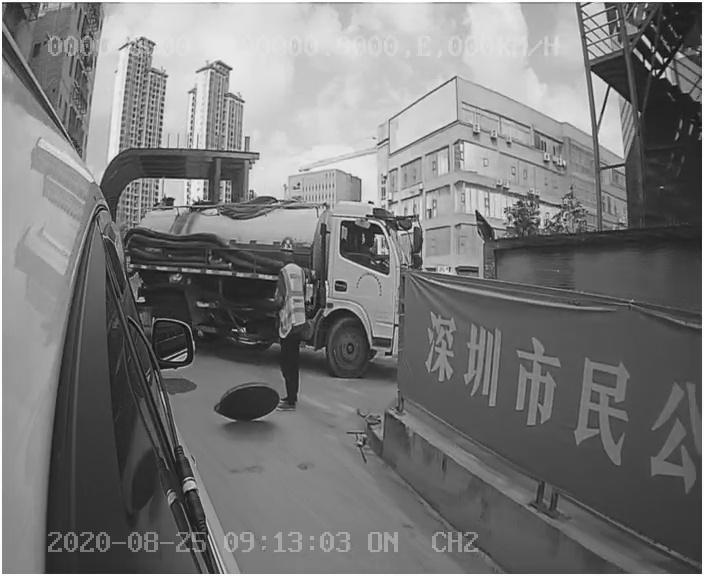person: (266, 238, 315, 414)
